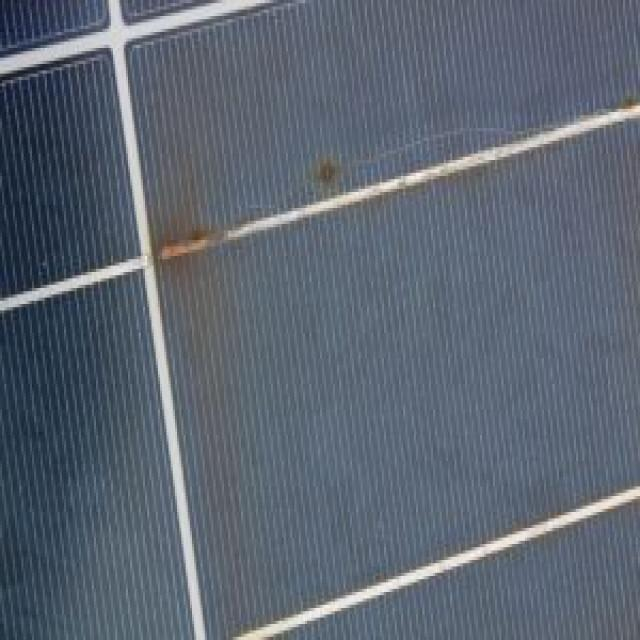Electrical-damage: (130, 176, 295, 423), (444, 115, 559, 215), (450, 511, 612, 558), (211, 584, 294, 640), (317, 154, 369, 230), (608, 90, 640, 147)
